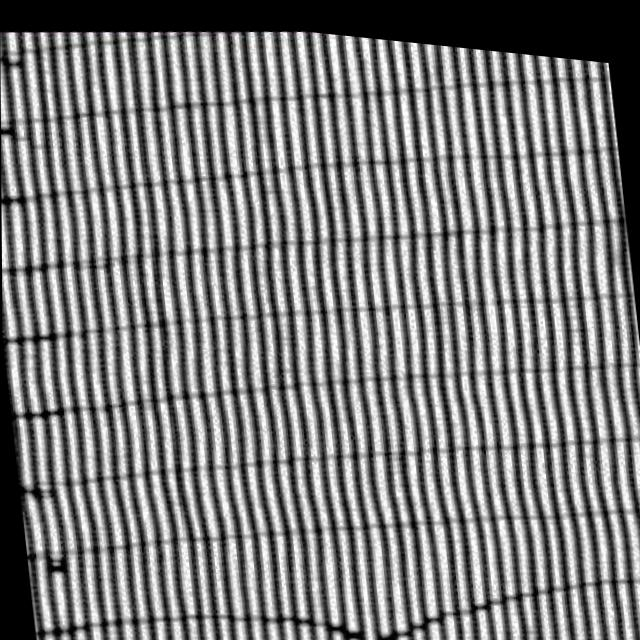Stitch: (225, 527, 569, 640)
